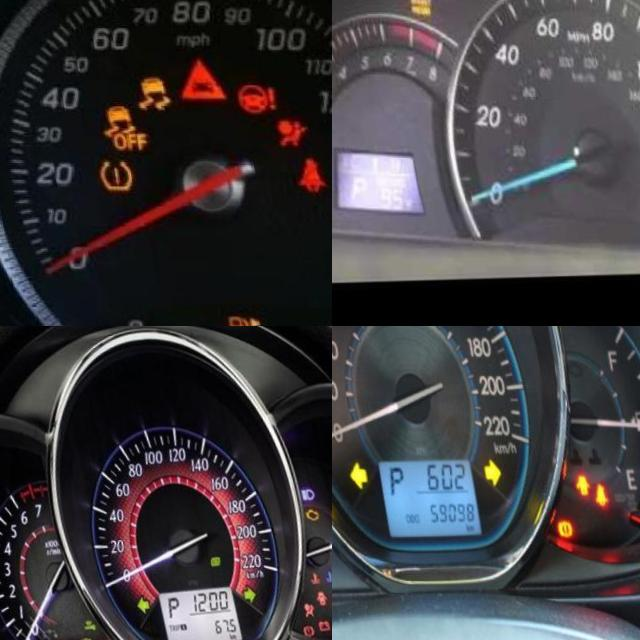High Engine Coolant Temperature: (295, 572, 307, 585)
Seat Belt: (577, 485, 593, 508), (315, 597, 327, 613)
